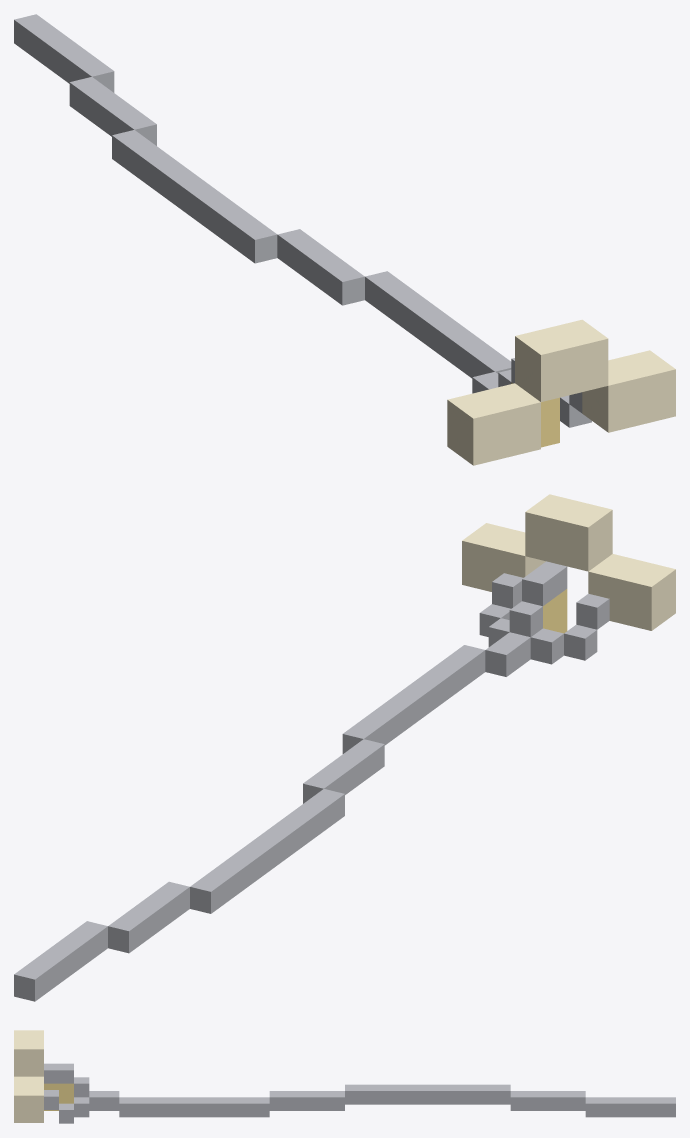
File: vox_branch_star.glb
3 renders of one model, top to bottom at view 1: azimuth 30°, elevation 25°; view 2: azimuth 150°, elevation 25°; view 3: azimuth 270°, elevation 25°, orthographic. The views are drawn at different scales.
Visible parts, largest first — view 1: vox_branch_star; view 2: vox_branch_star; view 3: vox_branch_star.
Part boxes in pixels (x1,y1,x2,y2): vox_branch_star: (14,14,675,465); vox_branch_star: (14,494,675,1001); vox_branch_star: (14,1030,675,1123).
Size of the model in its own units: 0.1799 by 0.1 by 0.88.
